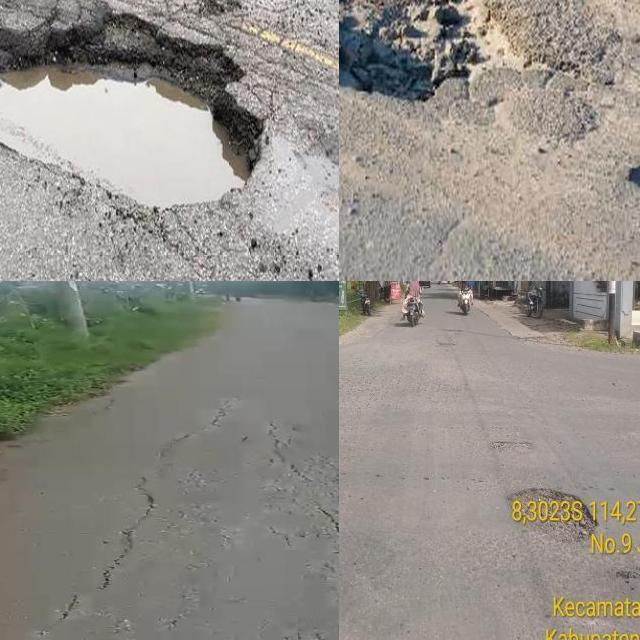Lubang: (0, 22, 266, 210), (339, 0, 541, 104), (503, 488, 601, 534)
